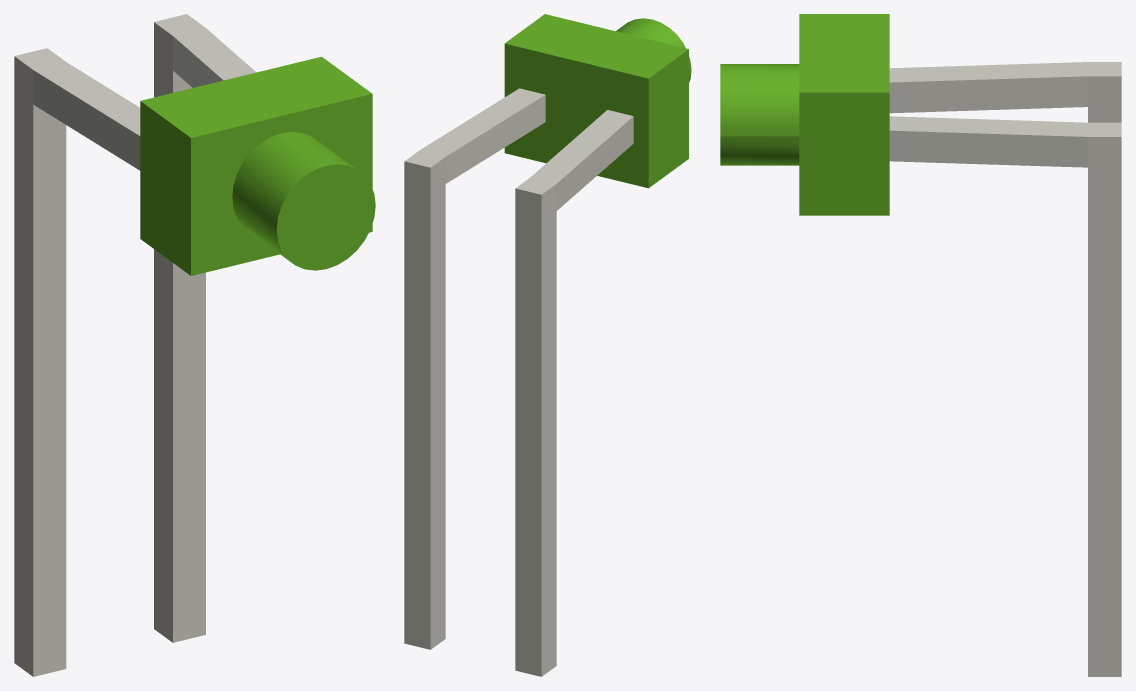
File: kc-led_d1.8mm_w1.8mm_h2.4mm_horizontal_o3.81mm_z8.2mm.glb
The picture shows the model from 3 angles, left to right: view 1: azimuth 30°, elevation 25°; view 2: azimuth 150°, elevation 25°; view 3: azimuth 270°, elevation 25°; orthographic projection. The views are drawn at different scales.
Visible parts, largest first — view 1: 0.6666666666666666_0.6666666666666666_0.5833333333333334_0.8, 0.16666666666666666_0.4166666666666667_0_0; view 2: 0.6666666666666666_0.6666666666666666_0.5833333333333334_0.8, 0.16666666666666666_0.4166666666666667_0_0; view 3: 0.6666666666666666_0.6666666666666666_0.5833333333333334_0.8, 0.16666666666666666_0.4166666666666667_0_0.
Part boxes in pixels (x1,y1,x2,y2): 0.6666666666666666_0.6666666666666666_0.5833333333333334_0.8: (14, 14, 256, 676); 0.16666666666666666_0.4166666666666667_0_0: (140, 56, 375, 275); 0.6666666666666666_0.6666666666666666_0.5833333333333334_0.8: (404, 88, 633, 676); 0.16666666666666666_0.4166666666666667_0_0: (504, 14, 691, 188); 0.6666666666666666_0.6666666666666666_0.5833333333333334_0.8: (889, 62, 1121, 676); 0.16666666666666666_0.4166666666666667_0_0: (720, 14, 889, 215).
Bounding box in the file's own units: 0.33 × 1.14 × 0.711.
